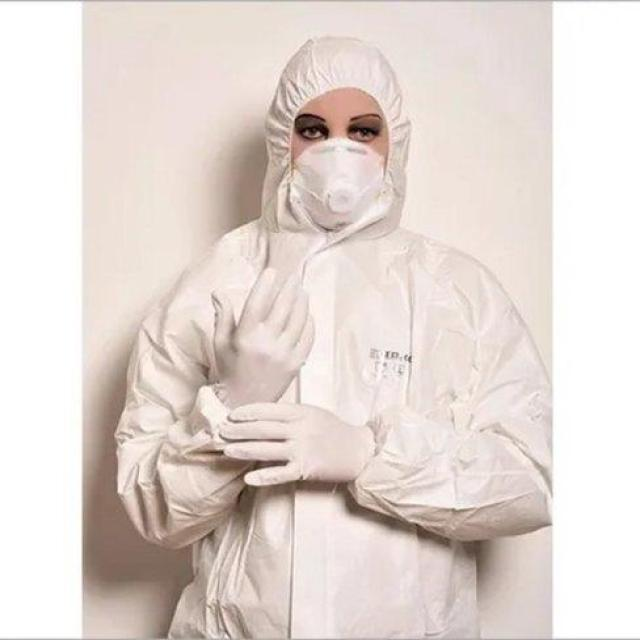Coverall: (110, 32, 551, 640)
Gloves: (207, 265, 319, 416), (219, 400, 374, 496)
Mask: (289, 138, 386, 232)
